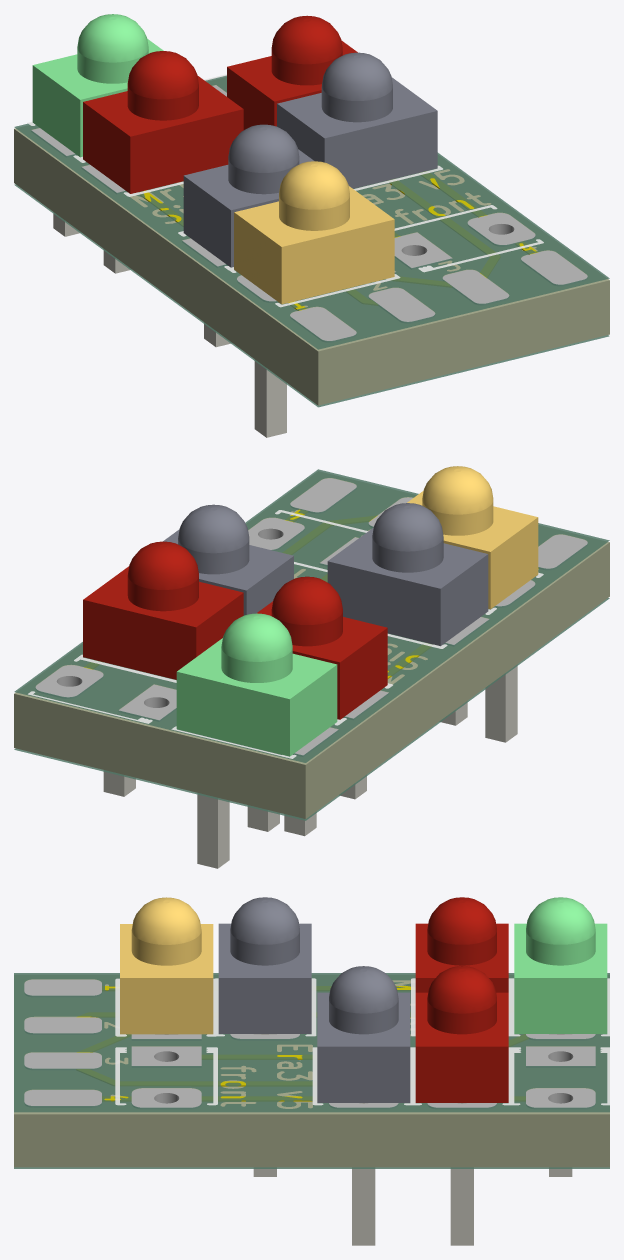
The model's file is MrJ-DB-Era3-prod-exit-Hp2.glb.
3 views of the same model, one above another, from view 1: azimuth 30°, elevation 25°; view 2: azimuth 150°, elevation 25°; view 3: azimuth 270°, elevation 25° (orthographic). The views are drawn at different scales.
Visible parts, largest first — view 1: =>[0:1:1:15], =>[0:1:1:3] (×2), =>[0:1:1:9] (×2), =>[0:1:1:13], =>[0:1:1:7], =>[0:1:1:11], =>[0:1:1:5], =>[0:1:1:10], =>[0:1:1:12], =>[0:1:1:14]; view 2: =>[0:1:1:15], =>[0:1:1:3] (×2), =>[0:1:1:9] (×2), =>[0:1:1:5], =>[0:1:1:13], =>[0:1:1:7], =>[0:1:1:11], =>[0:1:1:12], =>[0:1:1:14], =>[0:1:1:10]; view 3: =>[0:1:1:15], =>[0:1:1:13], =>[0:1:1:9] (×2), =>[0:1:1:3] (×2), =>[0:1:1:11], =>[0:1:1:5], =>[0:1:1:7], =>[0:1:1:12], =>[0:1:1:10], =>[0:1:1:14].
Boxes of the visible parts, x1,y1,x2,y2 form: =>[0:1:1:15]: (14, 77, 609, 405); =>[0:1:1:3] (×2): (83, 15, 357, 273); =>[0:1:1:9] (×2): (183, 52, 437, 347); =>[0:1:1:13]: (14, 75, 609, 349); =>[0:1:1:7]: (234, 161, 394, 437); =>[0:1:1:11]: (31, 85, 587, 341); =>[0:1:1:5]: (32, 14, 163, 236); =>[0:1:1:10]: (140, 173, 537, 310); =>[0:1:1:12]: (27, 74, 543, 307); =>[0:1:1:14]: (14, 184, 609, 407); =>[0:1:1:15]: (14, 471, 609, 818); =>[0:1:1:3] (×2): (83, 541, 387, 831); =>[0:1:1:9] (×2): (163, 503, 488, 725); =>[0:1:1:5]: (176, 613, 337, 868); =>[0:1:1:13]: (14, 469, 609, 762); =>[0:1:1:7]: (407, 466, 538, 742); =>[0:1:1:11]: (35, 478, 587, 756); =>[0:1:1:12]: (28, 510, 543, 758); =>[0:1:1:14]: (14, 598, 609, 820); =>[0:1:1:10]: (84, 509, 538, 678); =>[0:1:1:15]: (14, 975, 609, 1167); =>[0:1:1:13]: (14, 973, 609, 1112); =>[0:1:1:9] (×2): (218, 897, 410, 1245); =>[0:1:1:3] (×2): (415, 897, 508, 1245); =>[0:1:1:11]: (24, 979, 595, 1108); =>[0:1:1:5]: (514, 897, 607, 1176); =>[0:1:1:7]: (120, 897, 213, 1034); =>[0:1:1:12]: (115, 978, 609, 1105); =>[0:1:1:10]: (76, 986, 528, 1101); =>[0:1:1:14]: (14, 1167, 609, 1168).
Bounding box in the file's own units: 0.00851 × 0.0071 × 0.0154.
